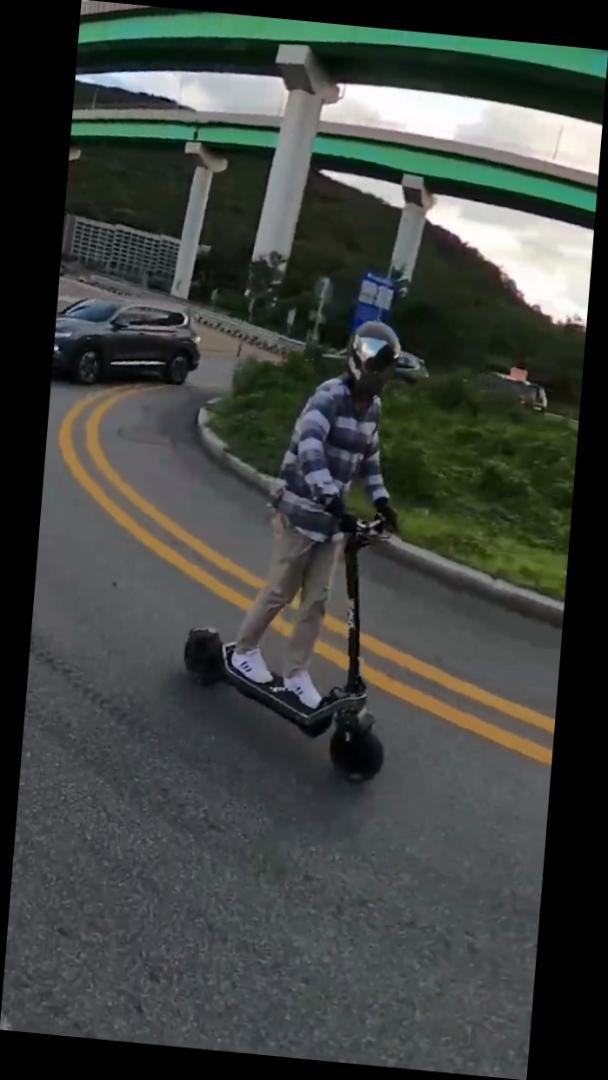helmet: (171, 298, 423, 790)
